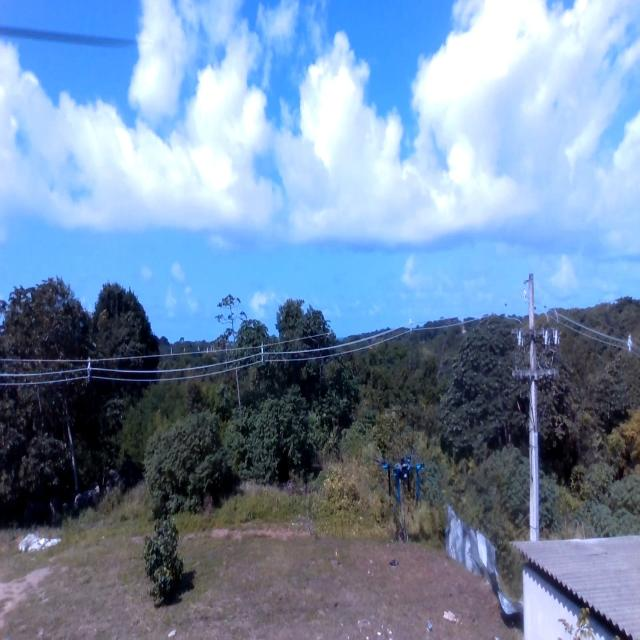-uav-: (379, 456, 425, 505)
